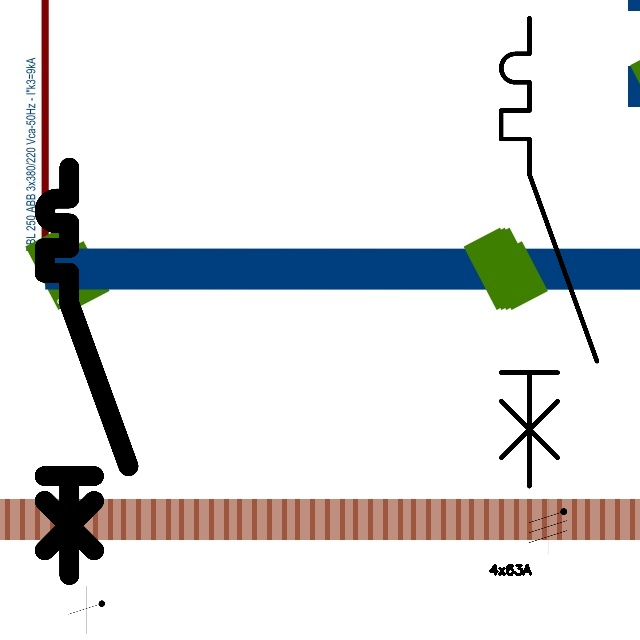interruptor_termomagnetico: (489, 6, 609, 498), (34, 157, 139, 585)
